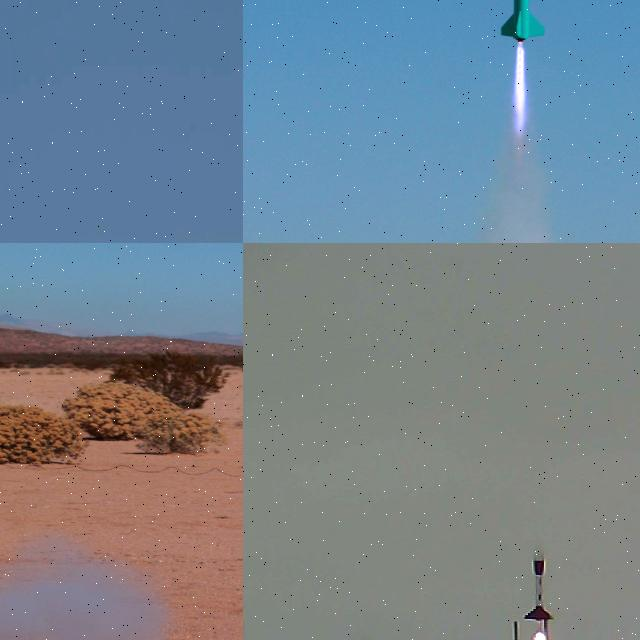Rocket: (522, 544, 554, 622), (498, 0, 546, 42)
